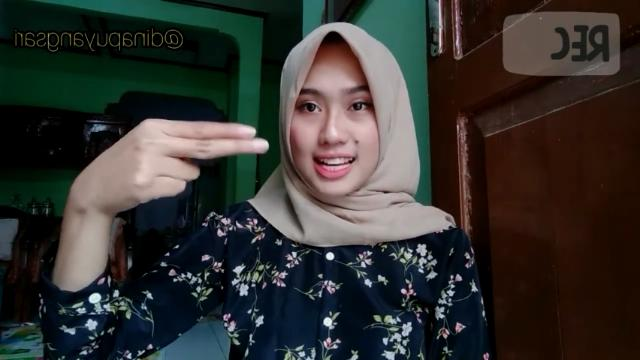H: (62, 118, 272, 221)
